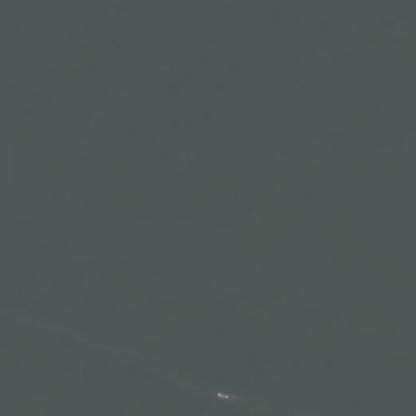ship: (220, 373, 222, 384)
